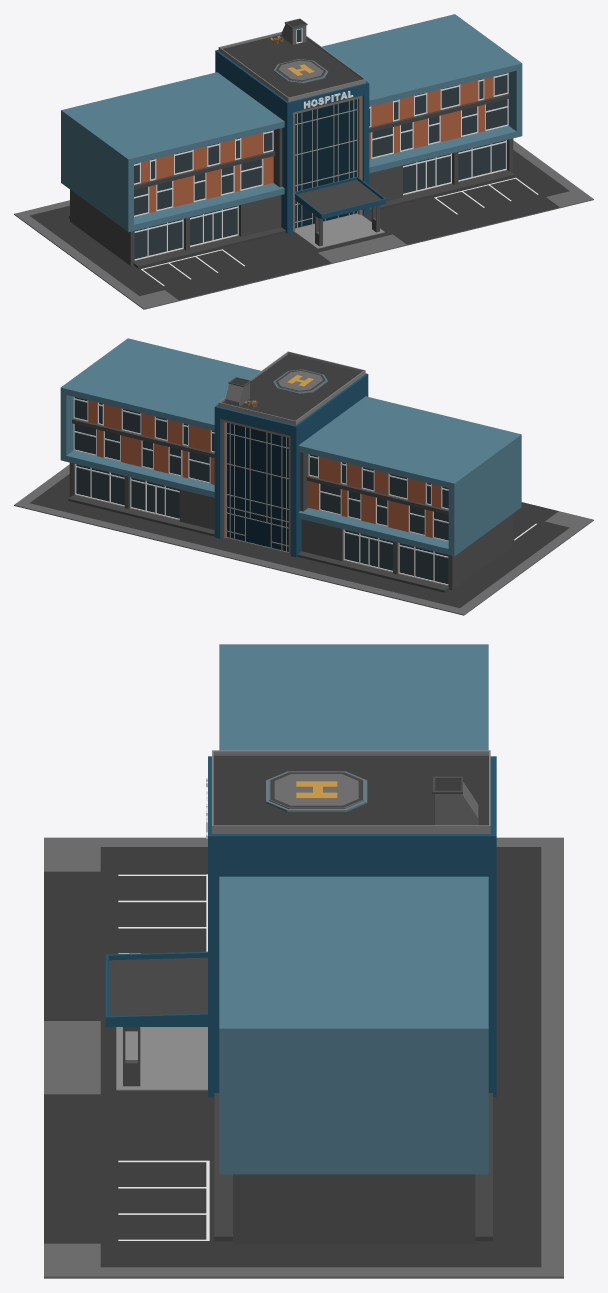
The model's file is hospital.glb.
3 views of the same model, one above another, from view 1: azimuth 30°, elevation 25°; view 2: azimuth 150°, elevation 25°; view 3: azimuth 270°, elevation 25° (orthographic). The views are drawn at different scales.
Parts seen in each view (by area): view 1: hospital_a; view 2: hospital_a; view 3: hospital_a.
Boxes of the visible parts, x1,y1,x2,y2 form: hospital_a: (14, 14, 593, 309); hospital_a: (14, 338, 593, 615); hospital_a: (44, 644, 563, 1278).
Size of the model in its own units: 50 by 16.05 by 25.
Materials: 1 (1 with a texture image).
